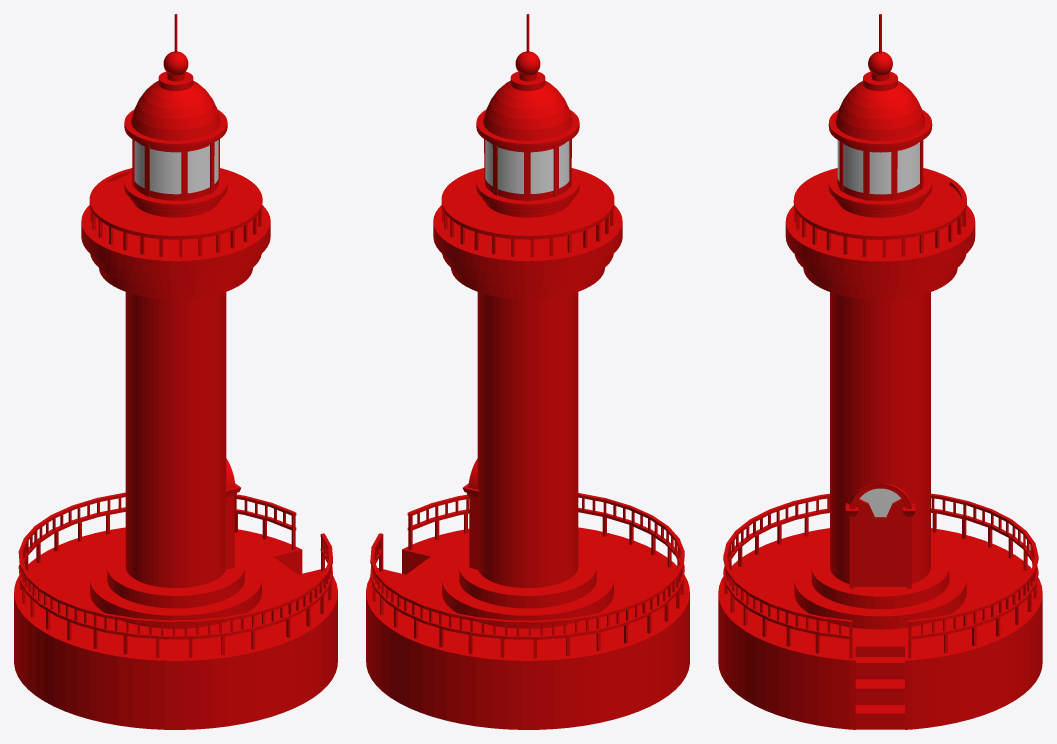
Rendered from lighthouse.fbx.
3 views of the same model, side by side, from view 1: azimuth 30°, elevation 25°; view 2: azimuth 150°, elevation 25°; view 3: azimuth 270°, elevation 25° (orthographic).
Visible parts, largest first — view 1: Cube; view 2: Cube; view 3: Cube.
Part boxes in pixels (bbox=[...]): Cube: bbox=[14, 14, 337, 729]; Cube: bbox=[366, 14, 689, 729]; Cube: bbox=[718, 14, 1042, 729].
Size of the model in its own units: 749 by 1659 by 753.
